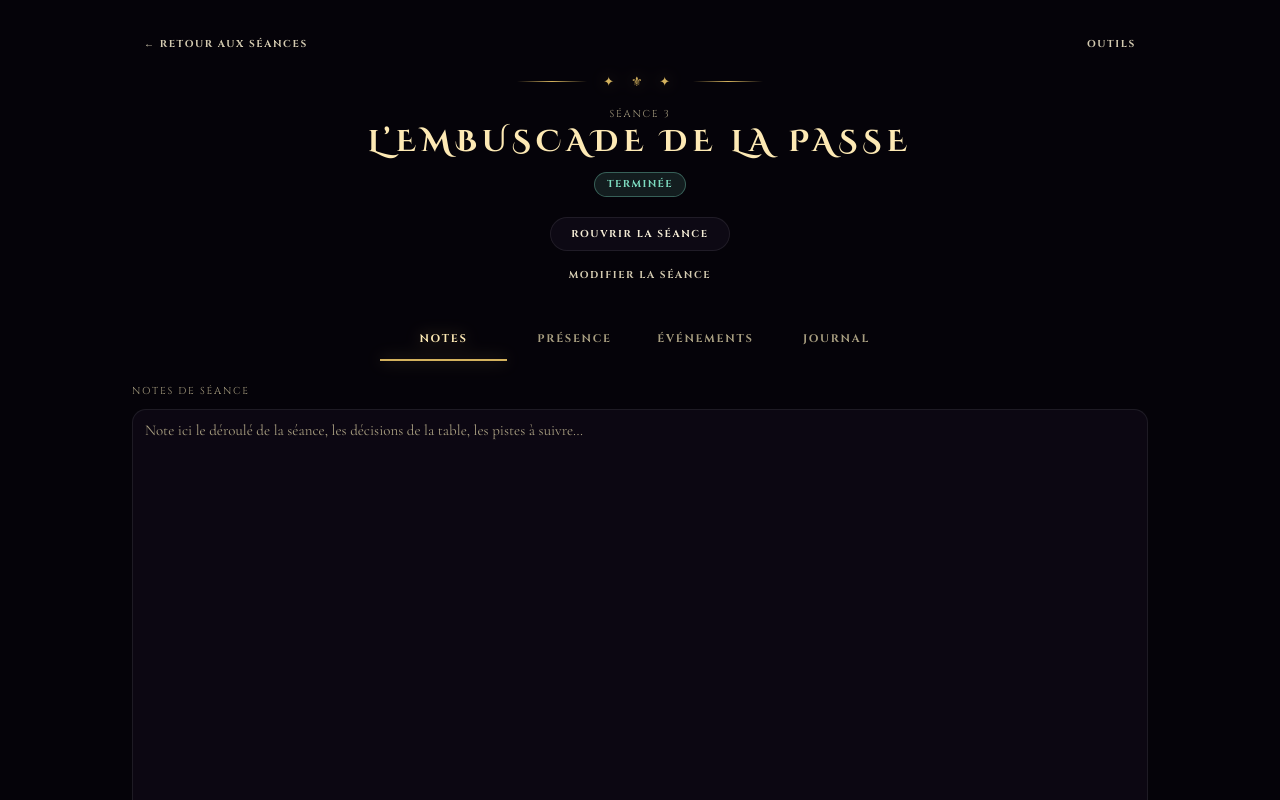
Test: <SessionScreen> — cycle de vie (M13) › rouvrir pendant qu’une autre séance tourne → message dédié
Click the button "Rouvrir la séance": [640, 234] box [550,216,730,250]
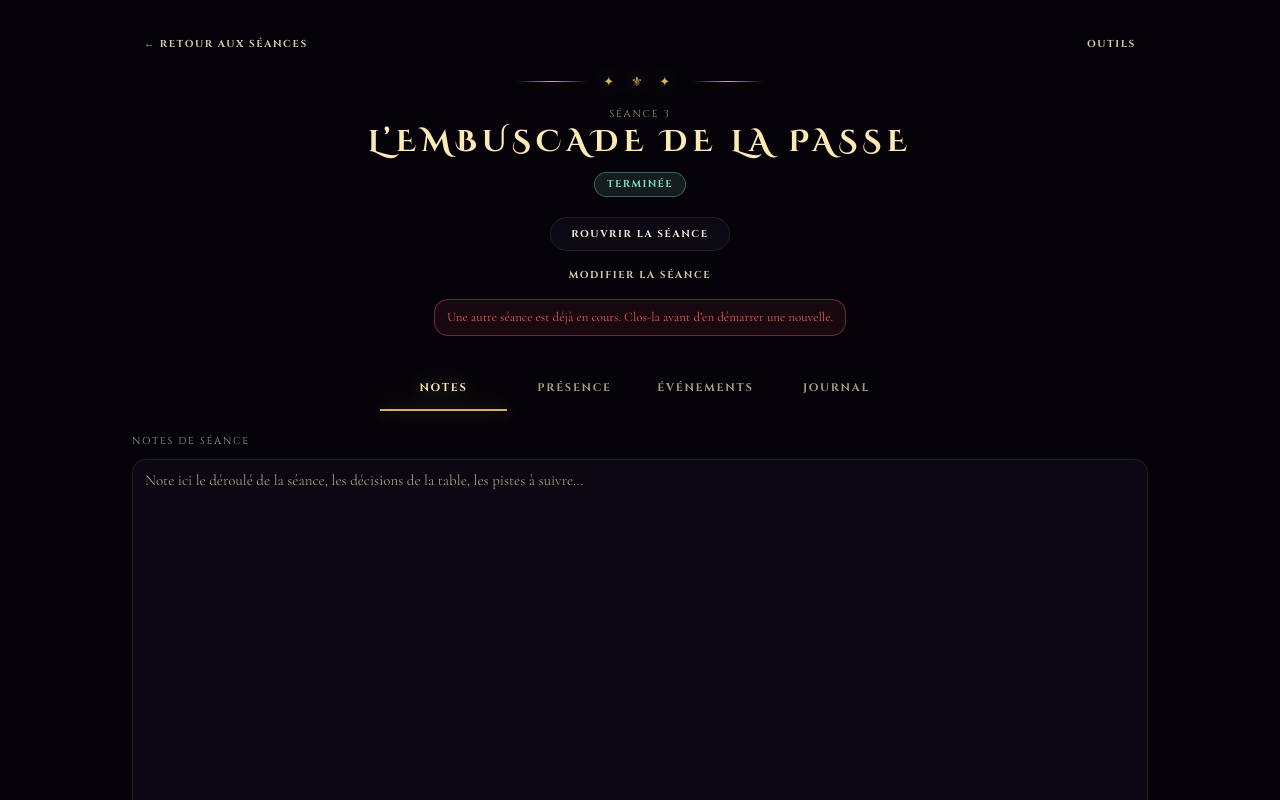
Now the text "Une autre séance est déjà en cours. Clos-la avant d’en démarrer une nouvelle." is shown, box [434,298,846,336]
